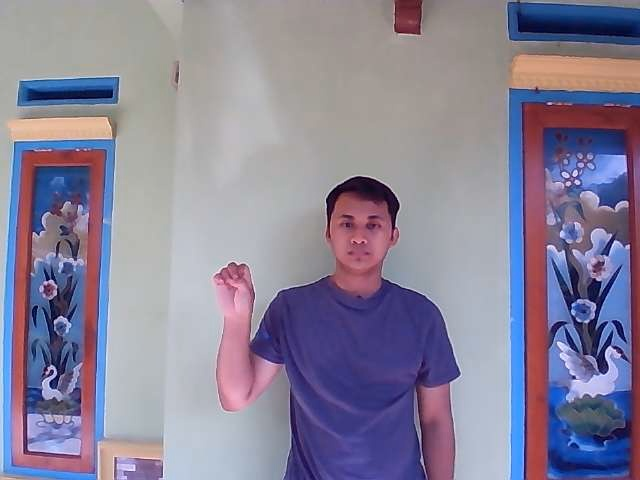E: (208, 256, 260, 337)
